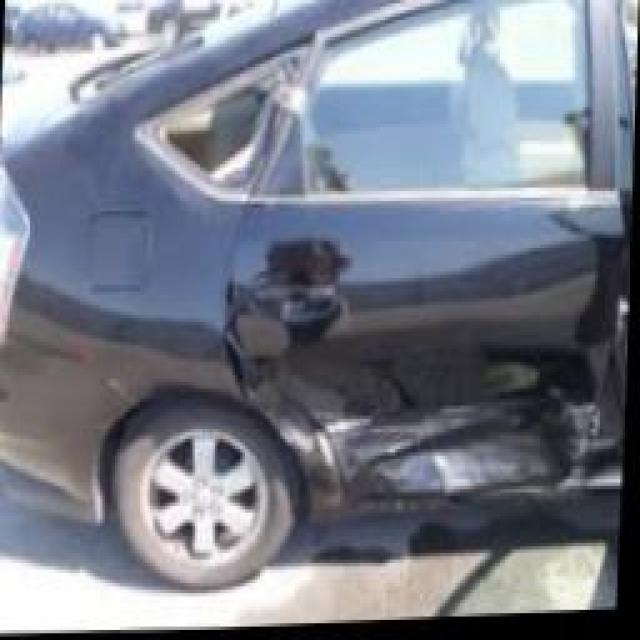replaceable: (240, 282, 606, 541), (158, 105, 270, 171)
